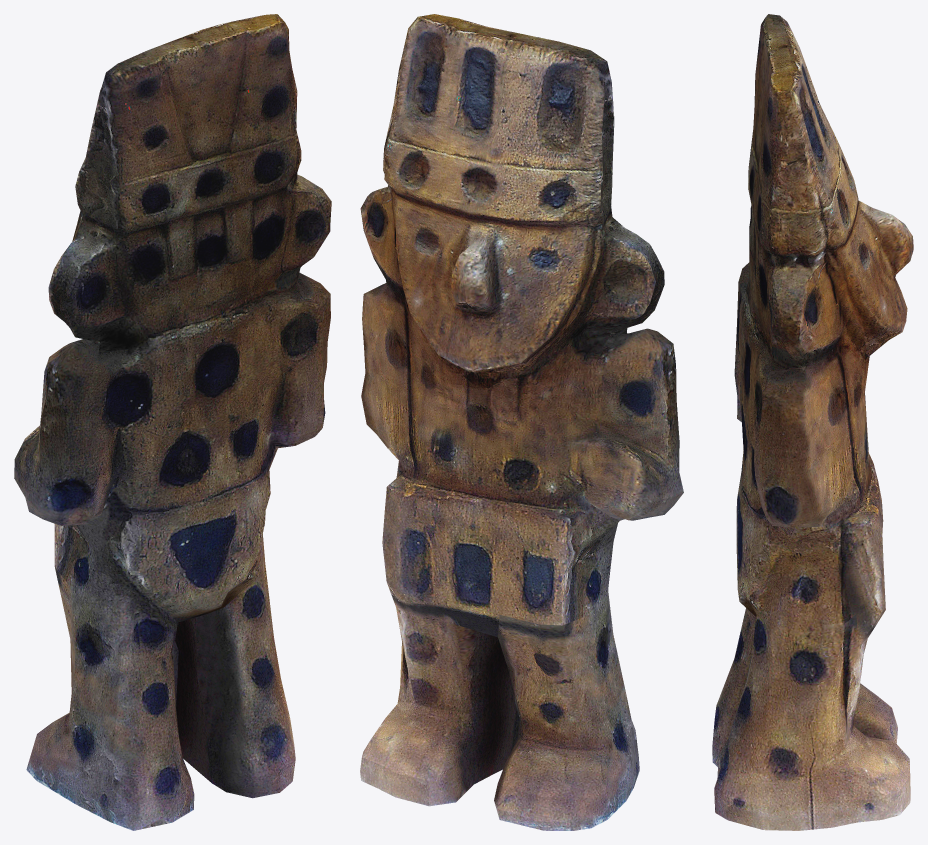
Rendered from escultura_tallada_ar.glb.
3 views of the same model, side by side, from view 1: azimuth 30°, elevation 25°; view 2: azimuth 150°, elevation 25°; view 3: azimuth 270°, elevation 25° (orthographic).
Visible parts, largest first — view 1: Box002; view 2: Box002; view 3: Box002.
Part boxes in pixels (left/top/right/bottom): Box002: left=14, top=14, right=331, bottom=830; Box002: left=360, top=14, right=683, bottom=830; Box002: left=712, top=14, right=913, bottom=830.
Size of the model in its own units: 2.4 by 5.59 by 1.37.
Materials: 1 (1 with a texture image).
